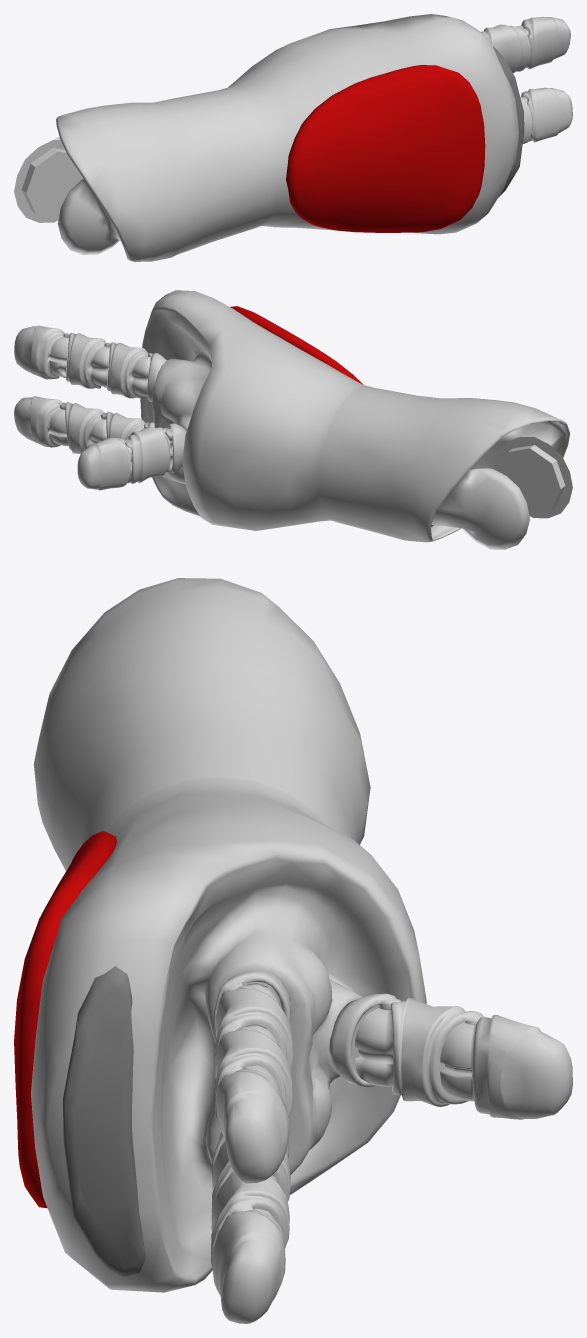
Rendered from LElbowRoll.dae.
3 views of the same model, one above another, from view 1: azimuth 30°, elevation 25°; view 2: azimuth 150°, elevation 25°; view 3: azimuth 270°, elevation 25° (orthographic). The views are drawn at different scales.
Parts seen in each view (by area): view 1: root_005; view 2: root_005; view 3: root_005.
Part boxes in pixels (box(x1,y1,x2,y2)): root_005: box(14, 14, 572, 261); root_005: box(14, 290, 572, 549); root_005: box(14, 578, 572, 1323).
Bounding box in the file's own units: 186 × 85.28 × 68.29.
